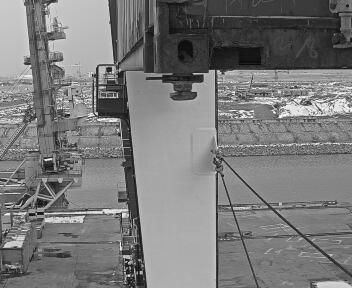twist_lock_1: (155, 69, 209, 109)
